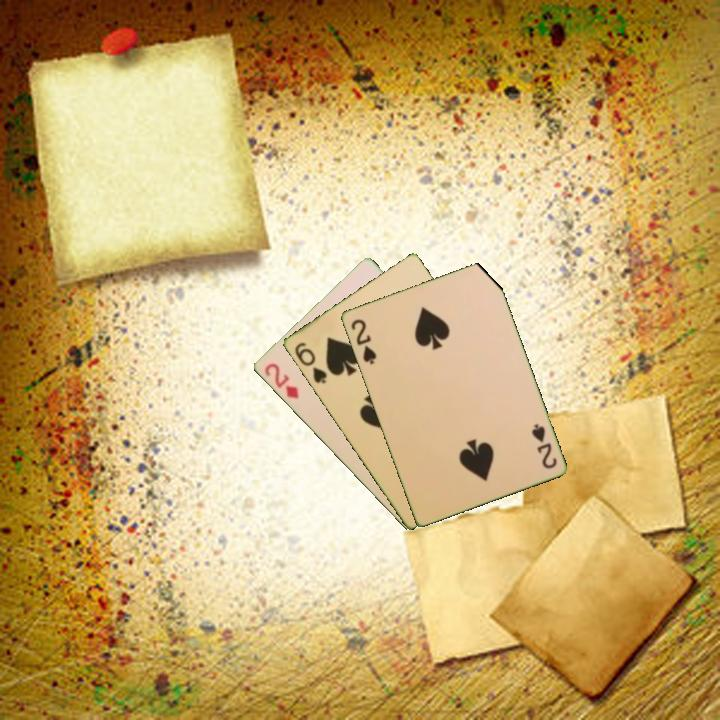2d: (261, 359, 301, 402)
2s: (347, 315, 379, 367), (528, 420, 559, 471)
6s: (291, 339, 330, 387)
